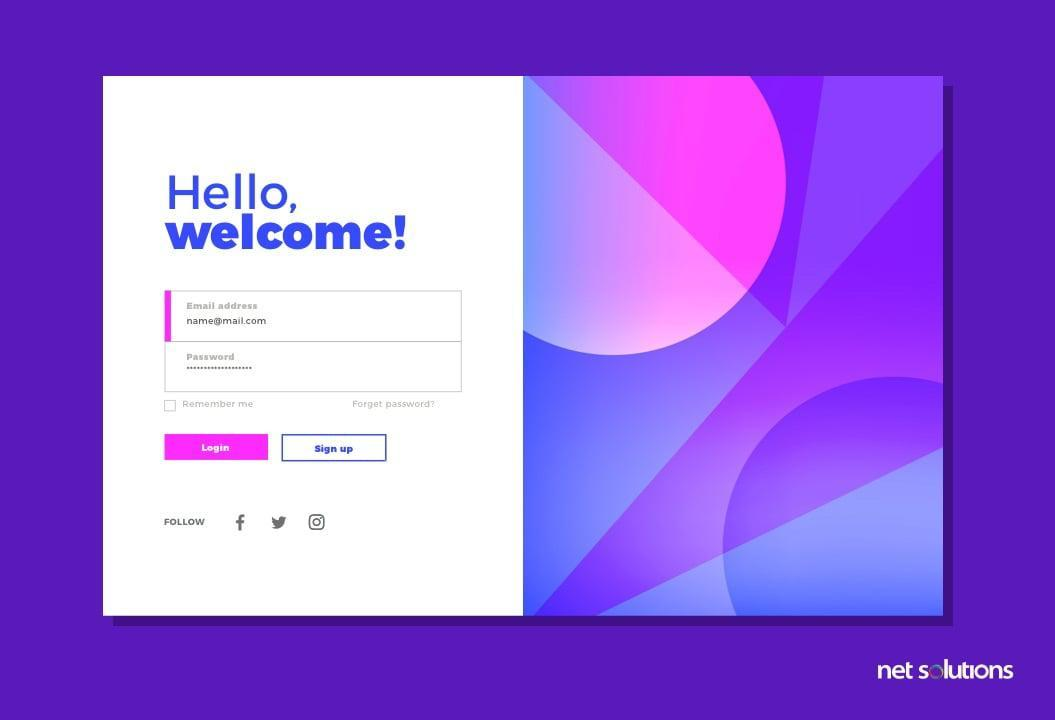button: (283, 436, 389, 463), (165, 435, 269, 462)
checkbox: (164, 400, 177, 413)
icon: (306, 514, 329, 532), (270, 514, 290, 532), (235, 513, 249, 533)
input: (167, 290, 463, 341), (167, 343, 462, 393)
label: (179, 399, 264, 414)
